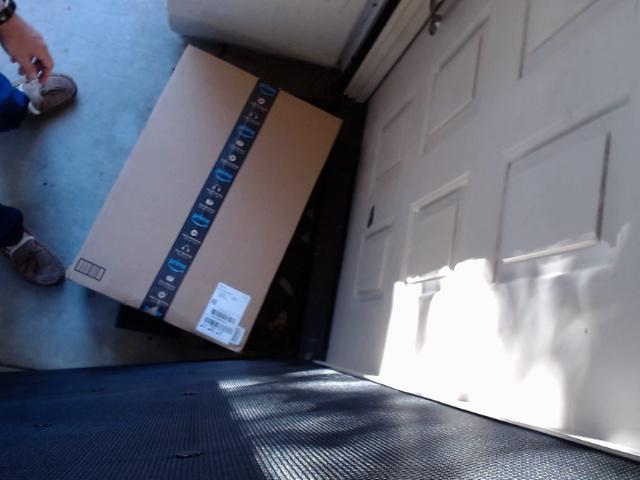box: (73, 60, 361, 344)
